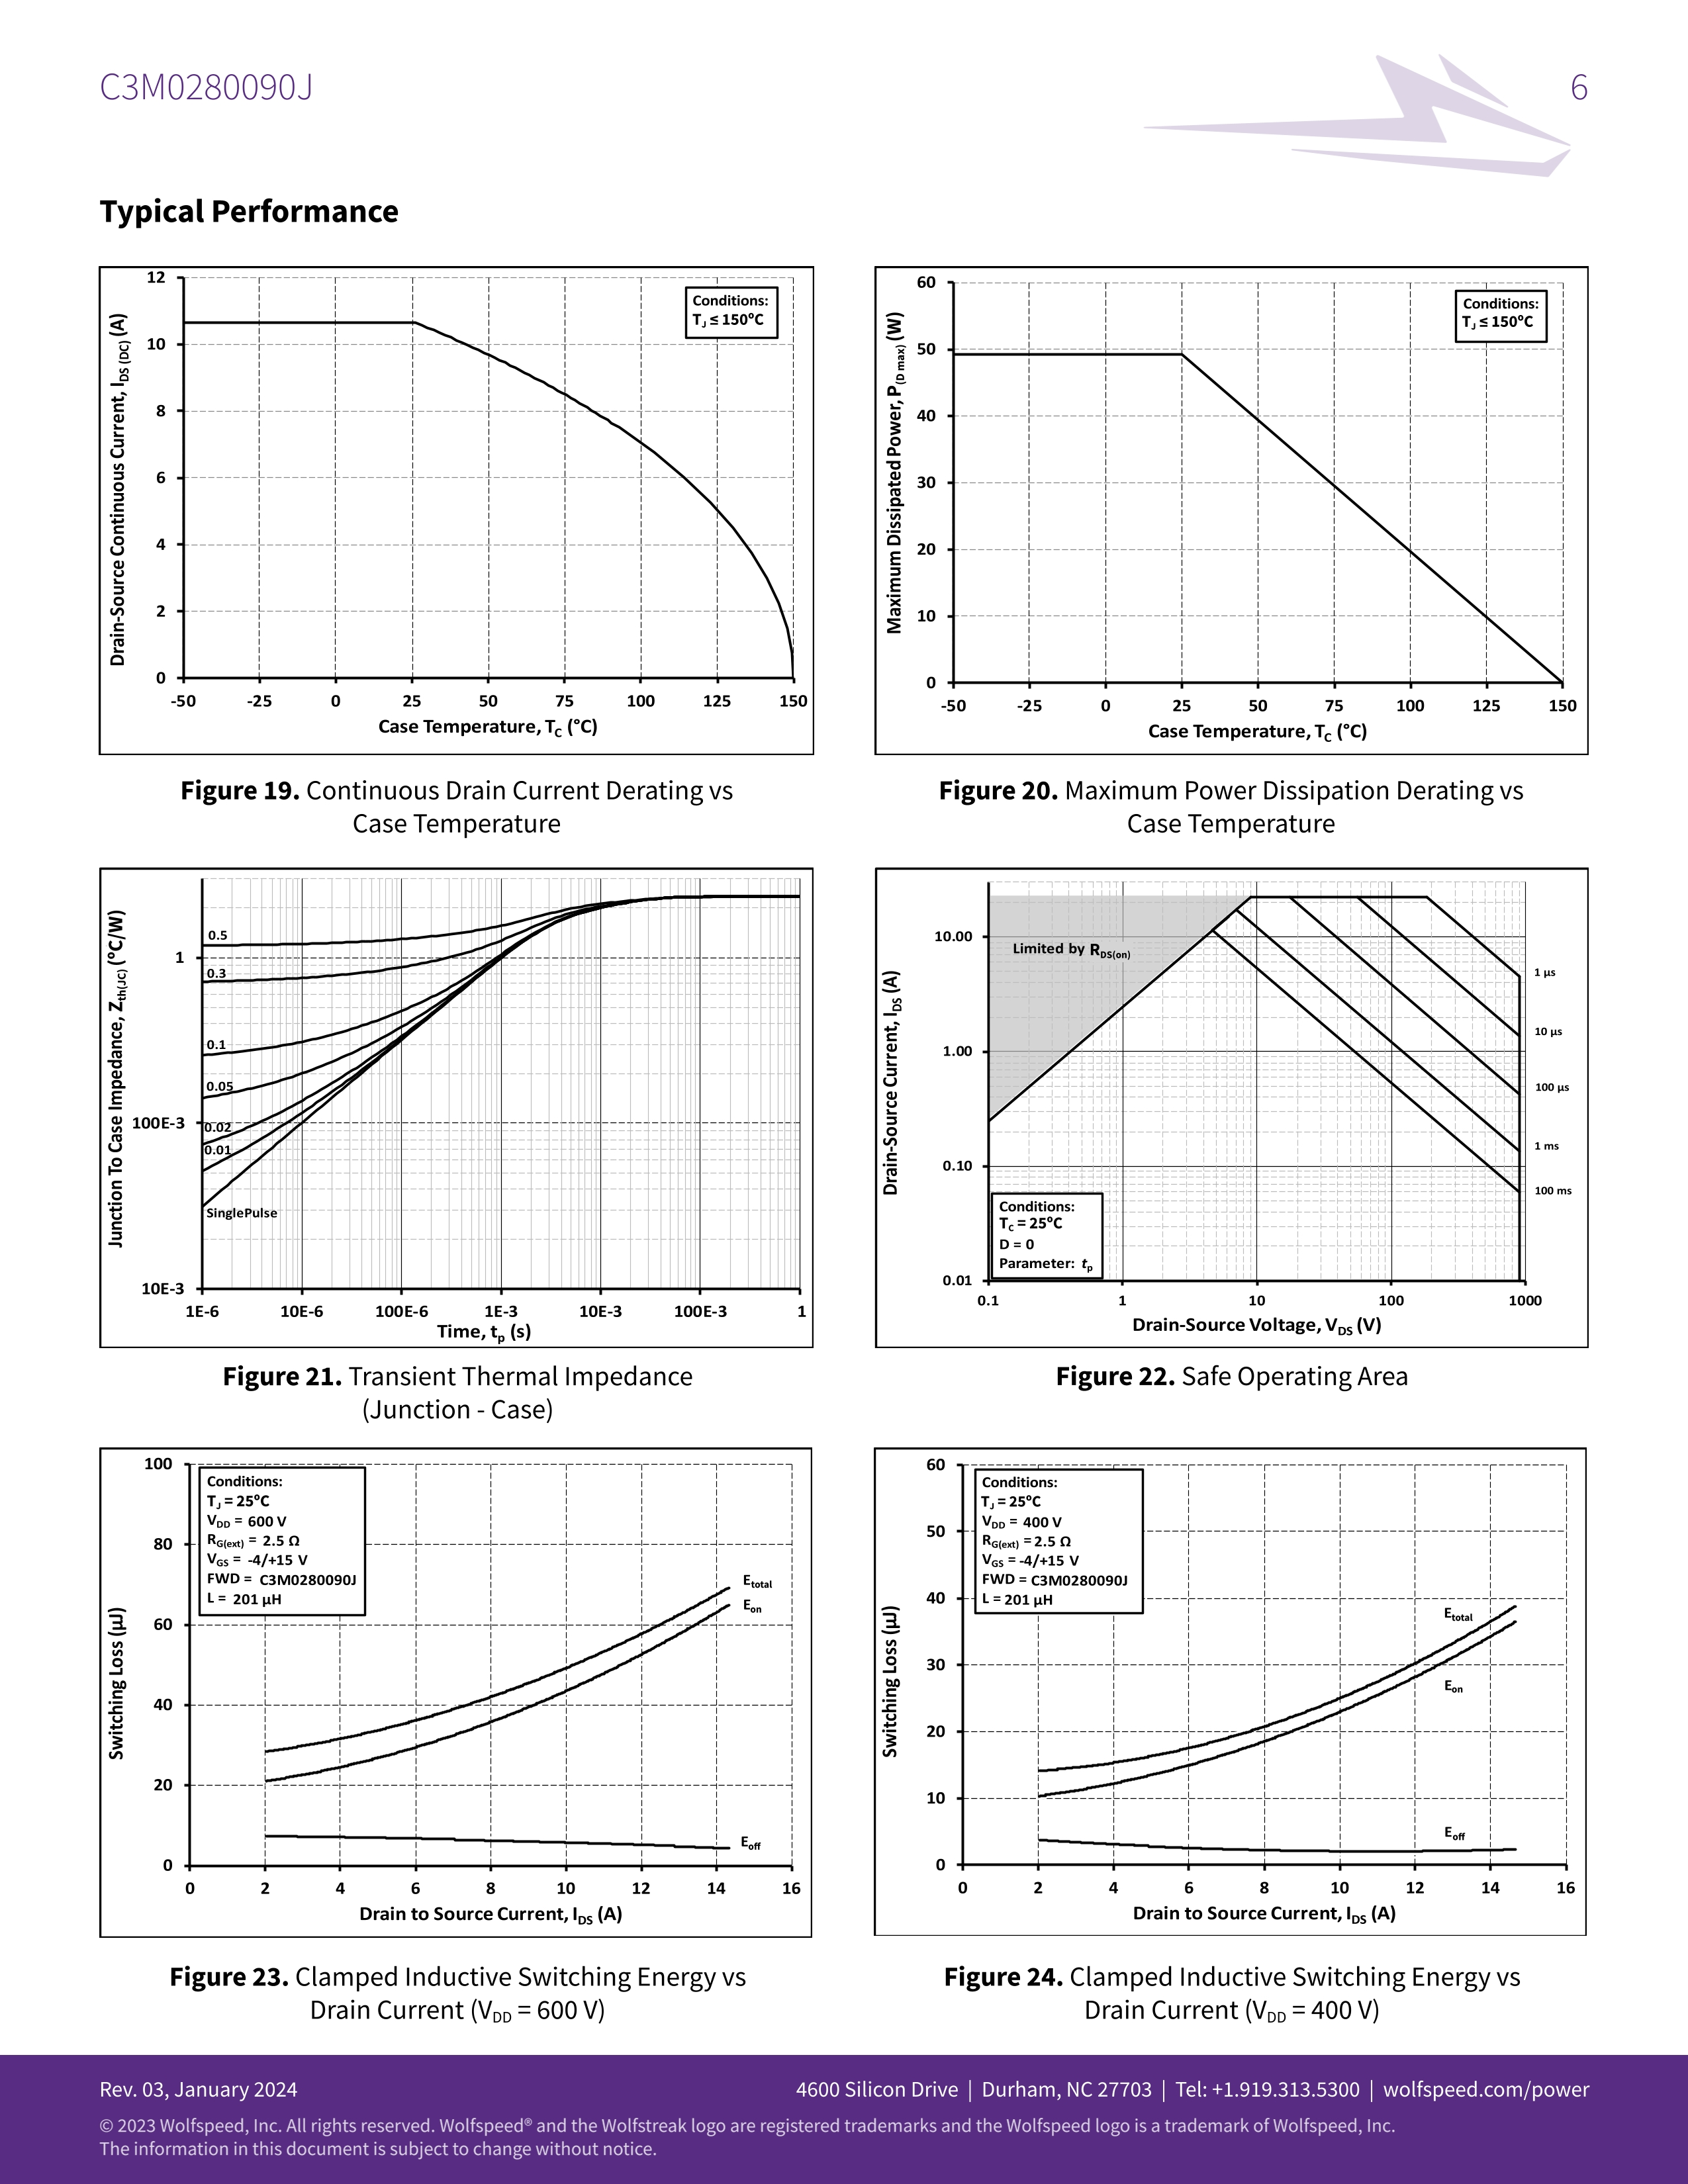diagram: (860, 1432, 1642, 2045), (85, 1430, 834, 2042), (73, 253, 827, 847), (869, 258, 1605, 847), (95, 847, 827, 1433), (863, 858, 1625, 1420)
